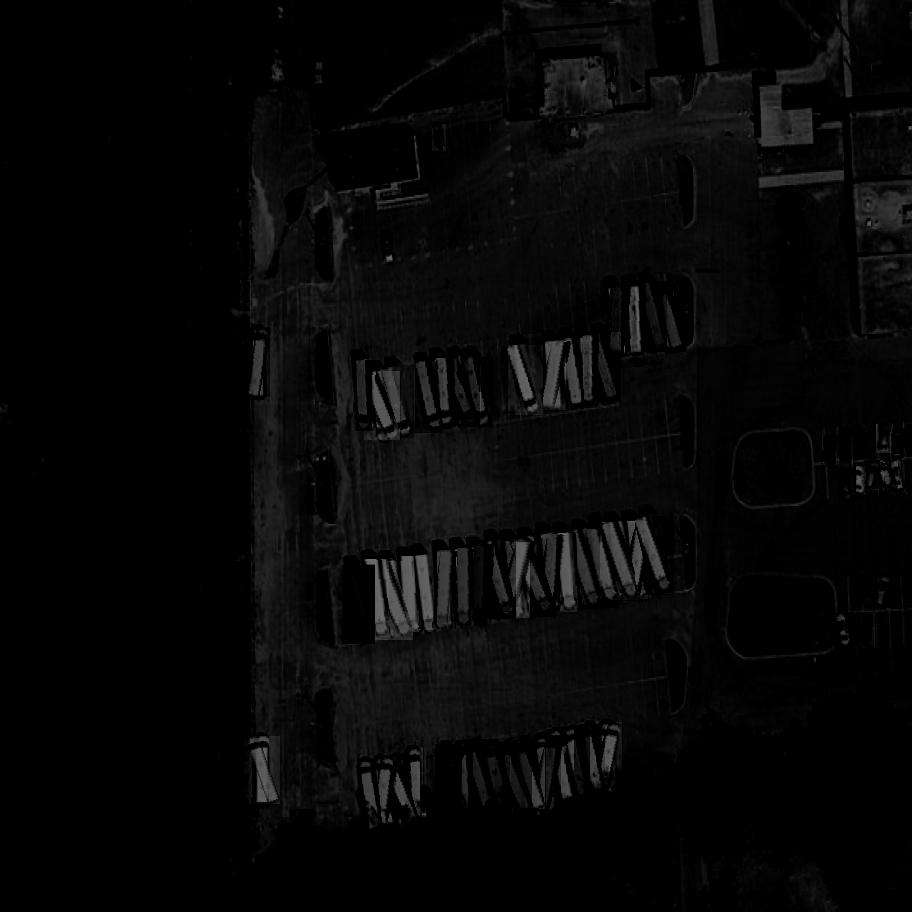large-vehicle: (511, 538, 557, 617), (374, 561, 416, 640), (635, 516, 676, 595), (601, 523, 641, 601), (380, 756, 422, 828), (568, 529, 604, 609), (587, 524, 621, 608), (482, 541, 518, 620), (442, 357, 482, 426), (342, 565, 376, 646), (364, 371, 403, 440), (495, 743, 533, 813), (464, 738, 499, 813), (501, 540, 533, 621), (512, 738, 547, 812), (508, 344, 544, 415), (245, 735, 280, 807), (383, 366, 415, 439), (534, 735, 562, 814), (580, 722, 610, 795), (590, 332, 621, 402), (638, 281, 668, 351), (415, 361, 444, 433), (483, 743, 512, 815), (563, 725, 591, 799), (547, 728, 575, 802), (465, 357, 494, 428), (596, 722, 624, 795), (436, 744, 463, 817), (365, 560, 389, 640), (655, 293, 687, 352), (357, 759, 382, 833), (543, 340, 568, 411), (628, 521, 650, 600), (248, 327, 271, 399), (374, 757, 396, 829), (400, 556, 420, 633), (562, 338, 584, 407), (558, 534, 577, 613), (542, 534, 561, 613), (437, 550, 455, 629), (455, 744, 473, 814), (409, 747, 426, 821), (357, 361, 374, 431), (437, 358, 454, 426), (458, 548, 471, 626), (629, 285, 643, 355), (611, 286, 624, 354), (475, 545, 486, 625), (583, 336, 594, 405)
small-vehicle: (872, 573, 894, 609), (876, 457, 899, 491), (864, 460, 885, 497), (835, 612, 855, 650), (889, 458, 909, 493), (838, 467, 857, 503), (822, 436, 842, 467), (297, 809, 315, 842), (876, 424, 894, 455), (840, 429, 855, 464), (863, 613, 877, 647), (859, 574, 874, 605), (852, 428, 866, 460), (432, 125, 448, 152), (892, 428, 904, 458), (855, 467, 865, 495), (383, 232, 393, 253)
